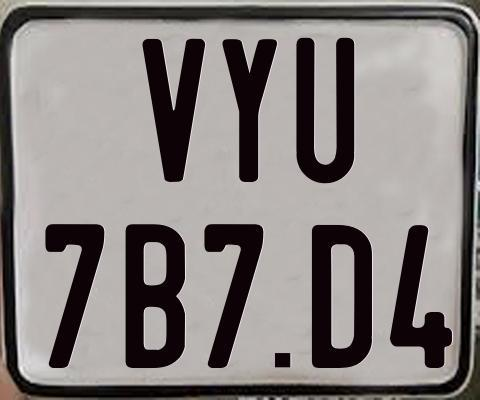4: (389, 223, 456, 369)
7: (202, 222, 266, 371), (44, 223, 106, 371)
B: (125, 224, 185, 373)
D: (312, 225, 374, 369)
U: (296, 35, 358, 182)
V: (141, 39, 210, 183)
Y: (222, 37, 281, 185)
